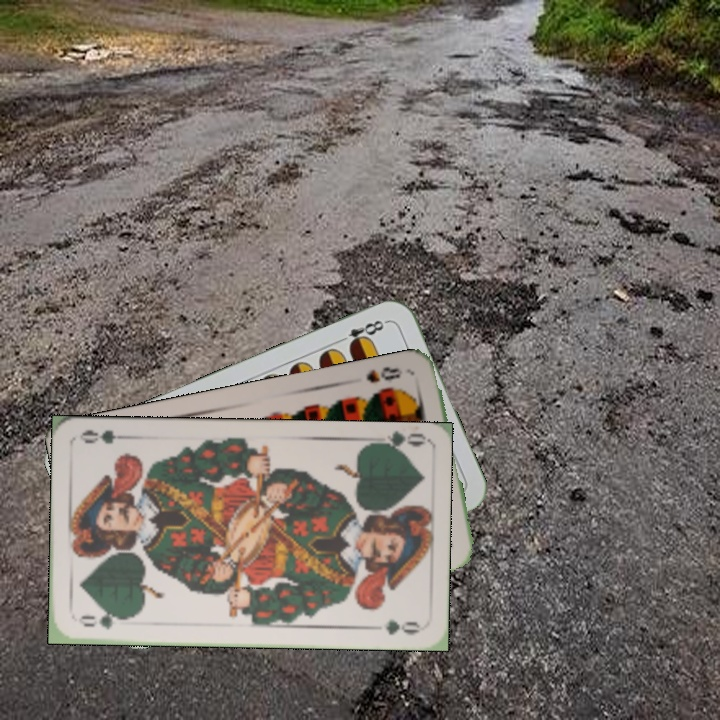E8: (334, 316, 390, 351)
GO: (366, 429, 426, 456), (74, 609, 132, 632)
S8: (362, 362, 405, 386)
